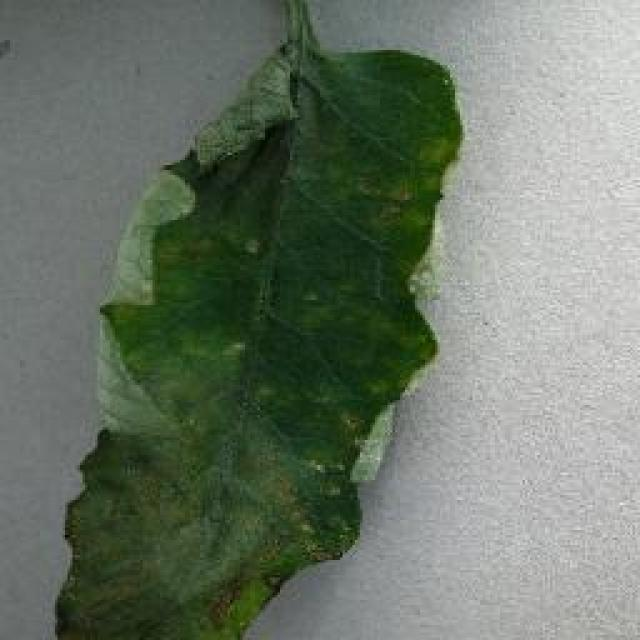Tomato___Late_blight: (52, 0, 465, 638)
